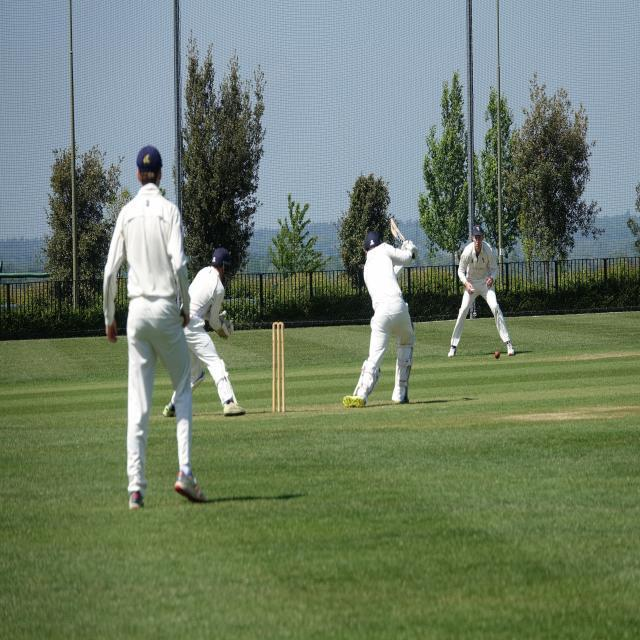stumps: (269, 321, 287, 417)
